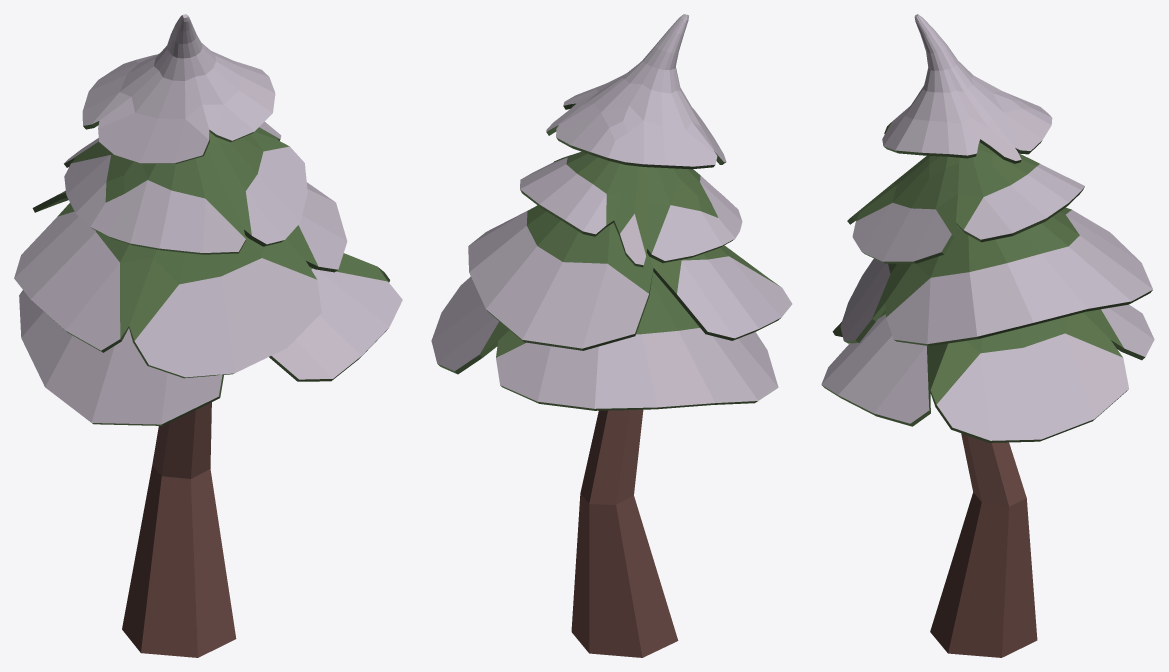
The model's file is pinetree_snow_5.glb.
3 views of the same model, side by side, from view 1: azimuth 30°, elevation 25°; view 2: azimuth 150°, elevation 25°; view 3: azimuth 270°, elevation 25° (orthographic). The views are drawn at different scales.
Parts seen in each view (by area): view 1: PineTree_Snow_5; view 2: PineTree_Snow_5; view 3: PineTree_Snow_5.
Part boxes in pixels (<box>): PineTree_Snow_5: <box>14,14,402,657</box>; PineTree_Snow_5: <box>431,14,792,657</box>; PineTree_Snow_5: <box>821,14,1154,657</box>.
Bounding box in the file's own units: 3.68 × 6.74 × 3.35.
